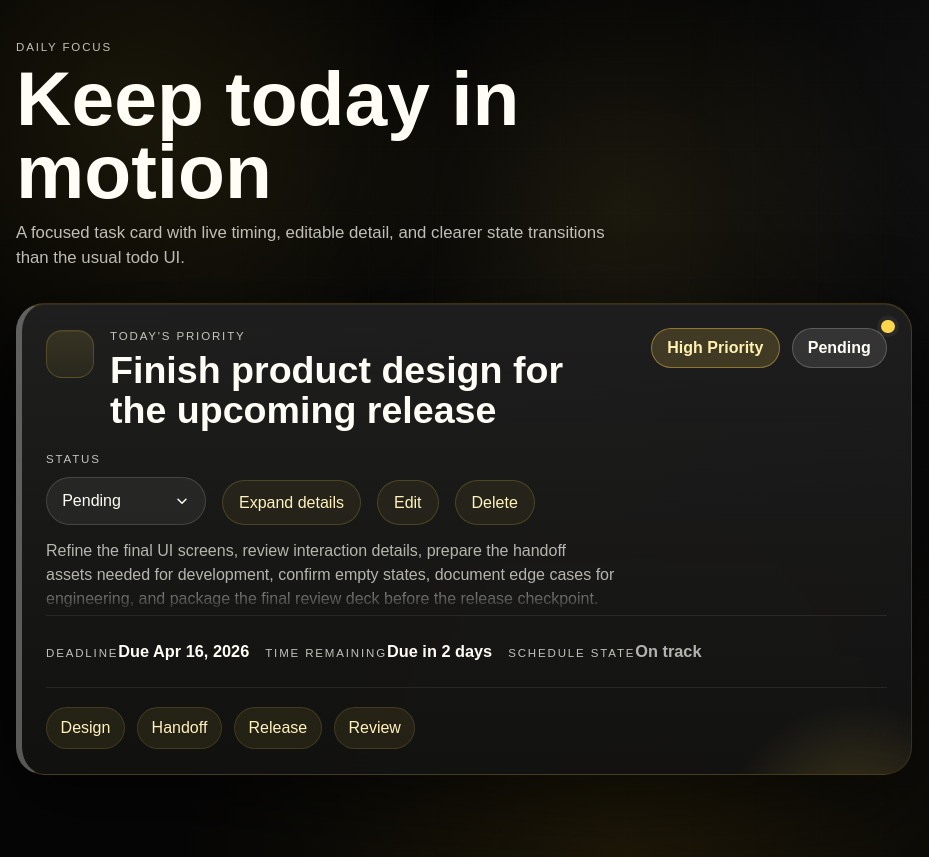
Todo card › updates relative time on the interval until the task is done
expect the text with test id "test-todo-time-remaining" reads "Due in 2 days": met, box [387,642,492,660]
Select "Done" in the dropdown with test id "test-todo-status-control" at (126, 501), box [46,477,206,525]
Wait 3600000 ms
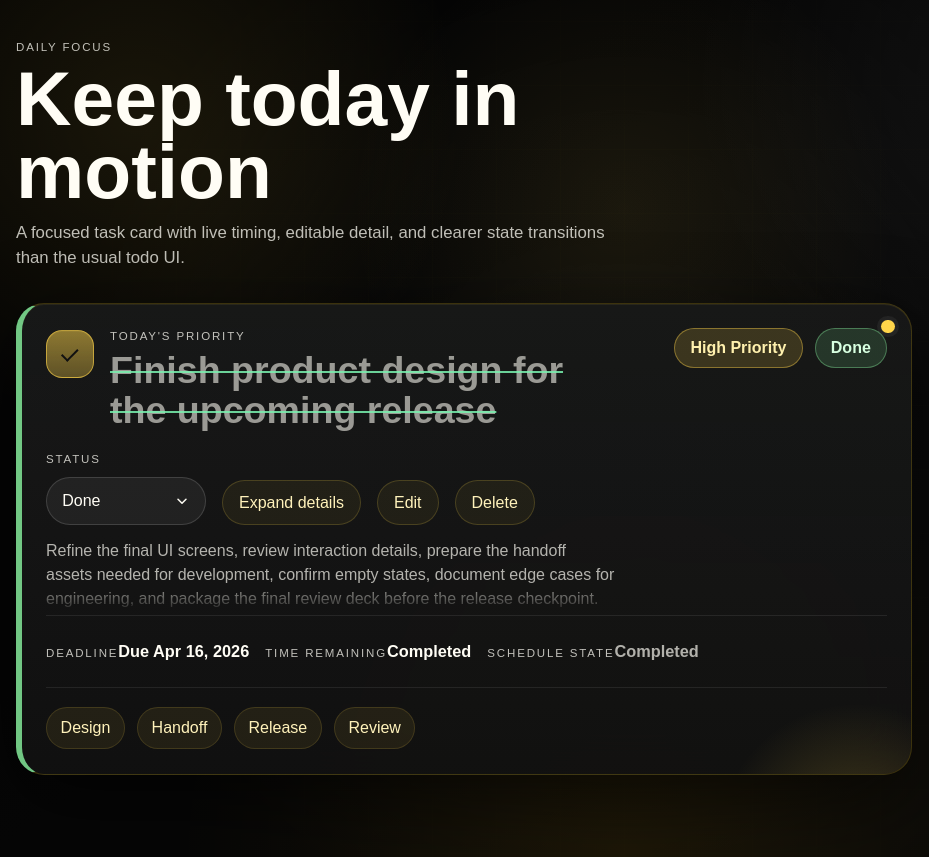
expect the text with test id "test-todo-time-remaining" reads "Completed": met, box [387,642,471,660]
expect the text with test id "test-todo-overdue-indicator" reads "Completed": met, box [614,642,699,660]
